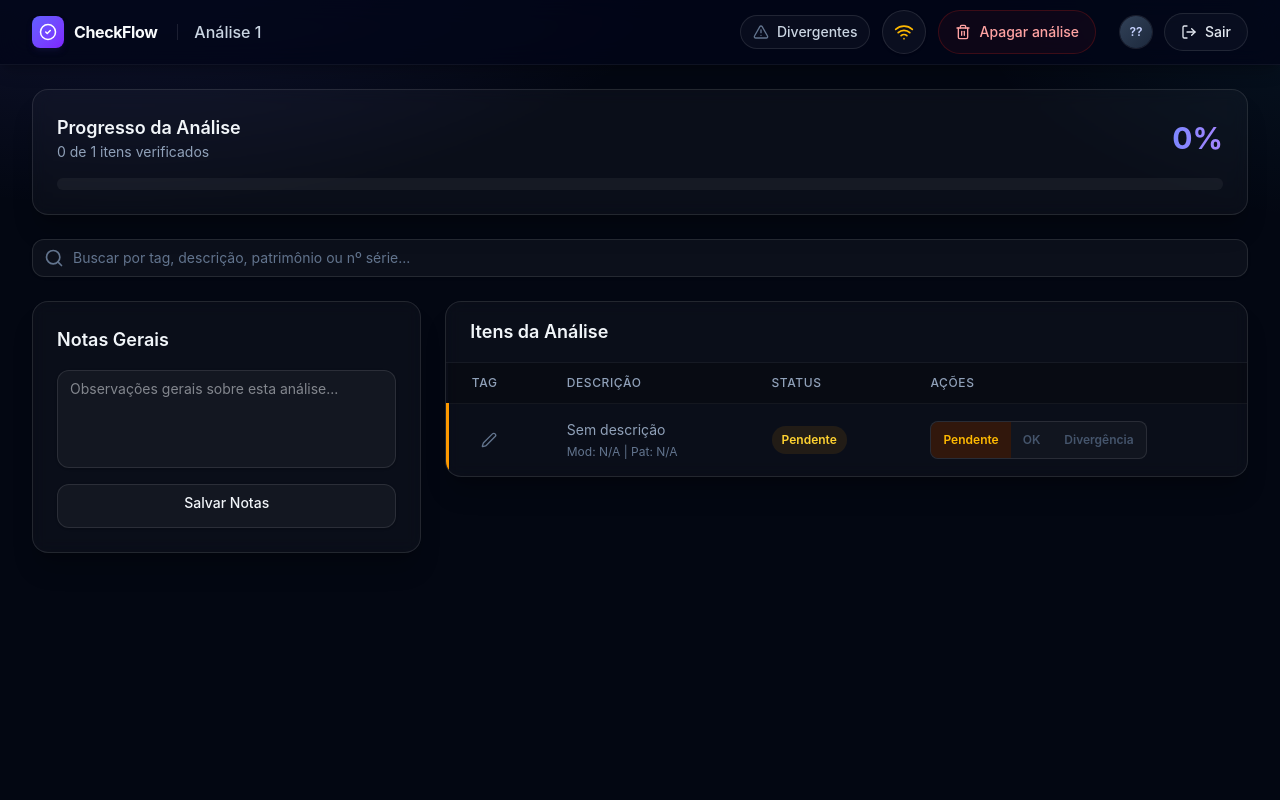
Test case: AnalysisDetail › não quebra ao filtrar itens com campos opcionais ausentes
Type "qualquer" into the field with placeholder "Buscar por tag, descrição, patrimônio ou nº série...". click: (640, 258)
box: [32, 239, 1248, 277]
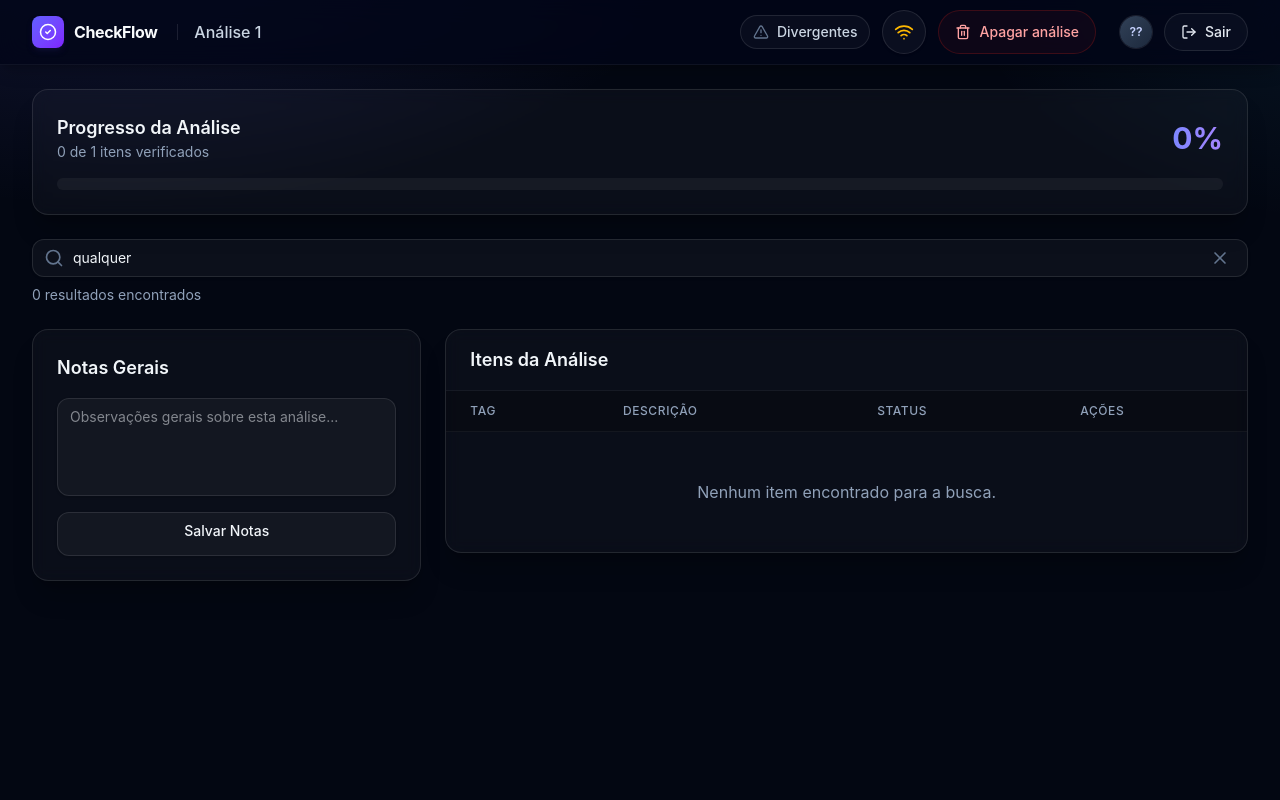
Result: the text "Nenhum item encontrado para a busca." is shown at [446, 432, 1247, 552]
